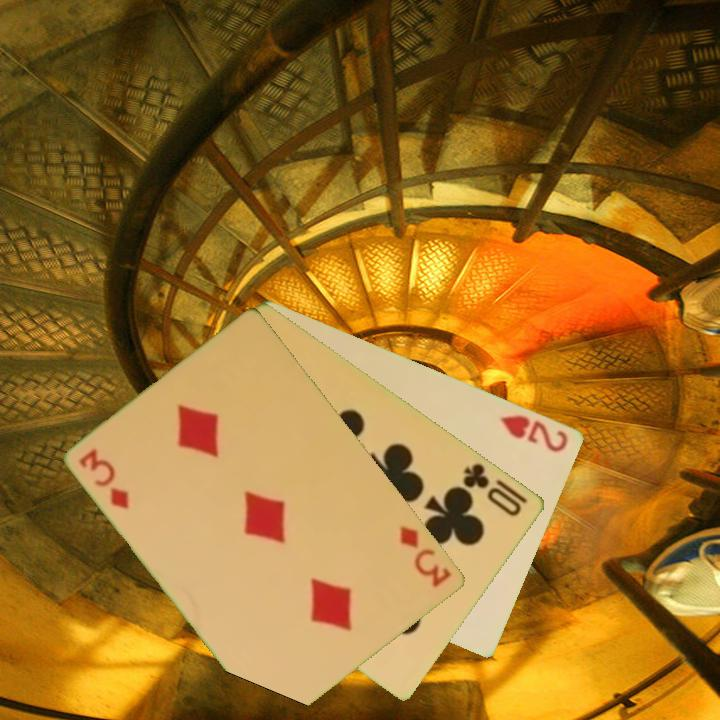10c: (459, 459, 525, 519)
2h: (497, 411, 572, 455)
3d: (396, 522, 455, 591), (76, 445, 133, 512)
